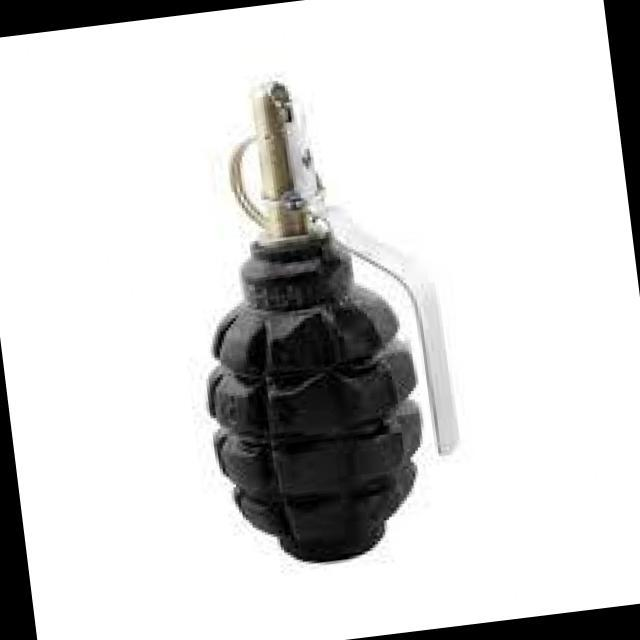grenade: (156, 47, 470, 572)
